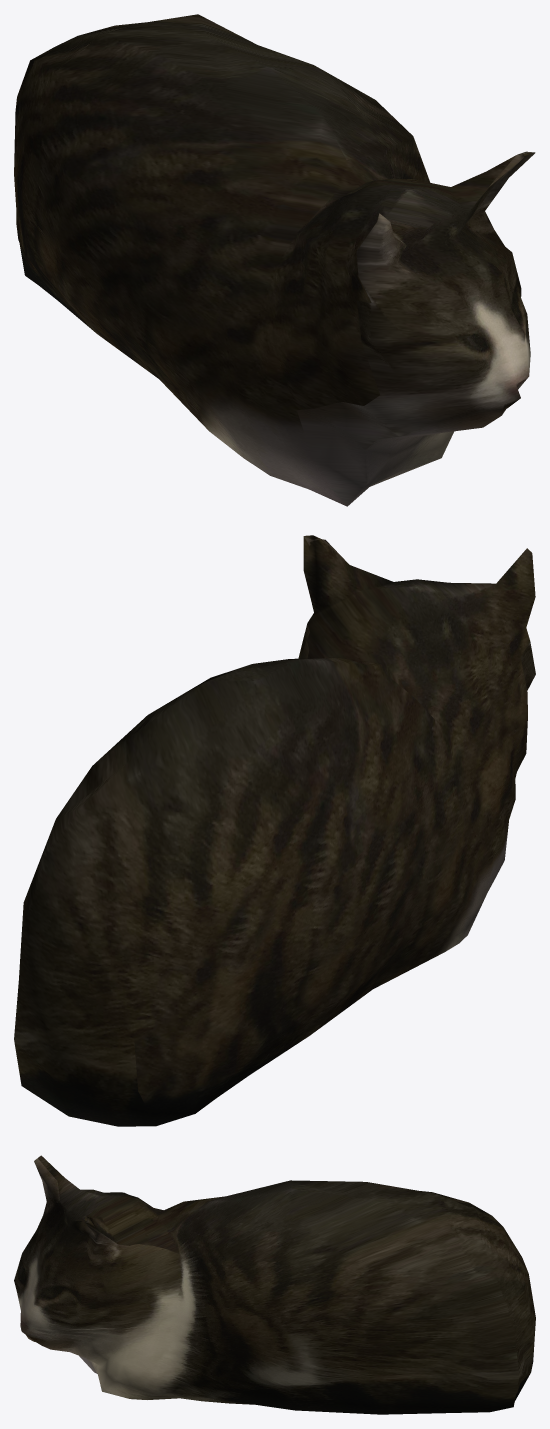
File: felix_loaf.glb
3 renders of one model, top to bottom at view 1: azimuth 30°, elevation 25°; view 2: azimuth 150°, elevation 25°; view 3: azimuth 270°, elevation 25°, orthographic. The views are drawn at different scales.
Visible parts, largest first — view 1: Object_3, Object_2; view 2: Object_3, Object_2; view 3: Object_2, Object_3.
Part boxes in pixels (x1,y1,x2,y2): Object_3: (14,54,534,506); Object_2: (31,14,534,506); Object_3: (133,535,535,1126); Object_2: (14,536,535,1126); Object_2: (14,1158,535,1414); Object_3: (38,1155,291,1253).
Size of the model in its own units: 2.18 by 2.43 by 5.21.
Materials: 2 (2 with a texture image).
